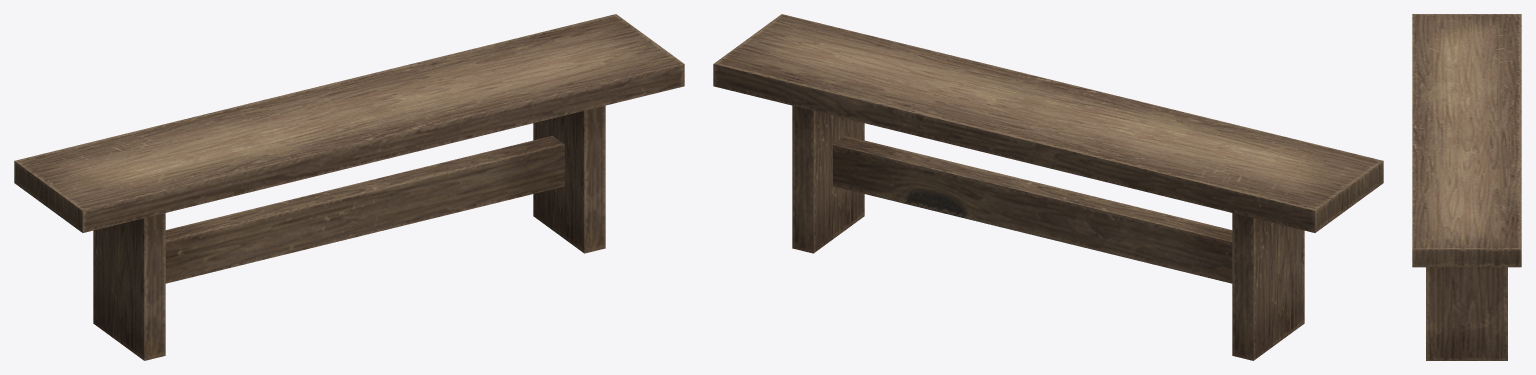
The model's file is Bench_2.fbx.
3 renders of one model, left to right at view 1: azimuth 30°, elevation 25°; view 2: azimuth 150°, elevation 25°; view 3: azimuth 270°, elevation 25°, orthographic. The views are drawn at different scales.
Parts seen in each view (by area): view 1: Bench_2; view 2: Bench_2; view 3: Bench_2.
Part boxes in pixels (x1,y1,x2,y2): Bench_2: (14,14,684,360); Bench_2: (713,14,1383,360); Bench_2: (1412,14,1521,360).
Size of the model in its own units: 172 by 47.33 by 33.8.
